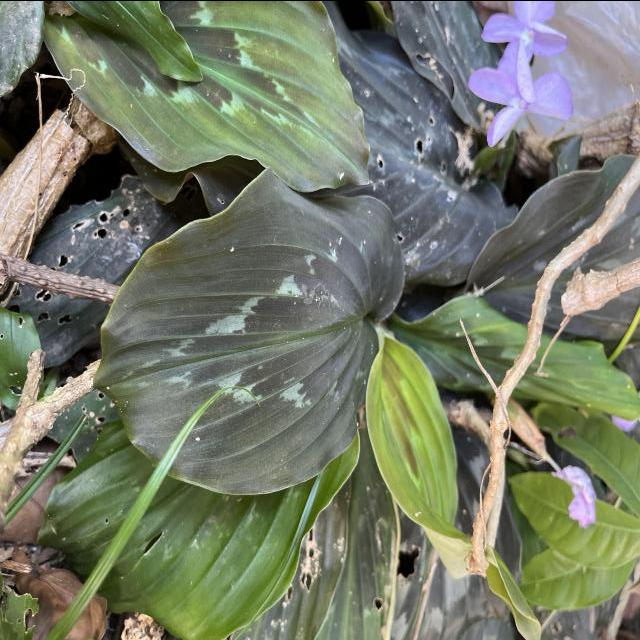Kaempferia galanga linn: (91, 162, 407, 498), (43, 0, 373, 195)
